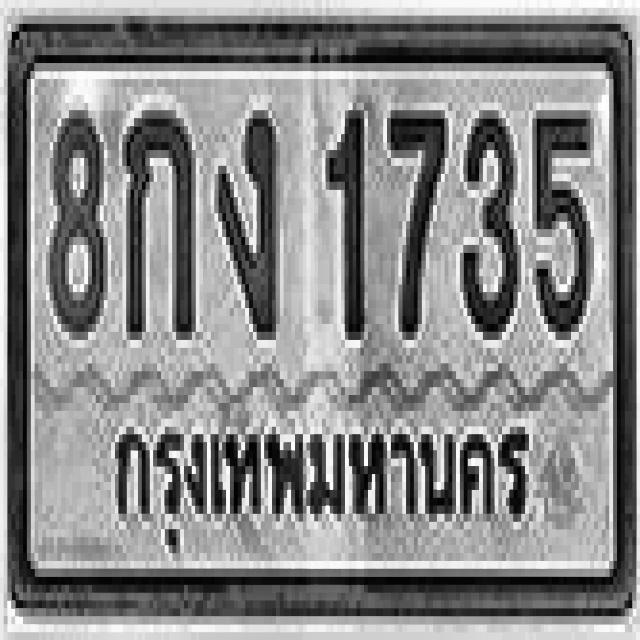license-plate: (9, 18, 630, 620)
